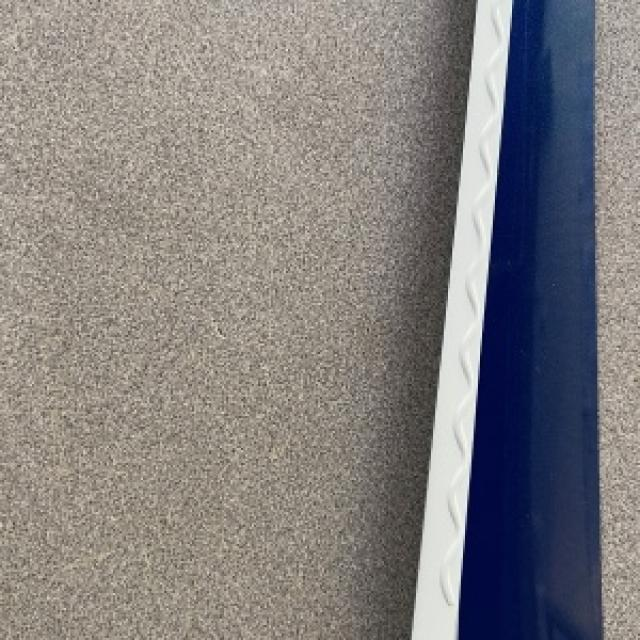healthy: (410, 0, 599, 638)
